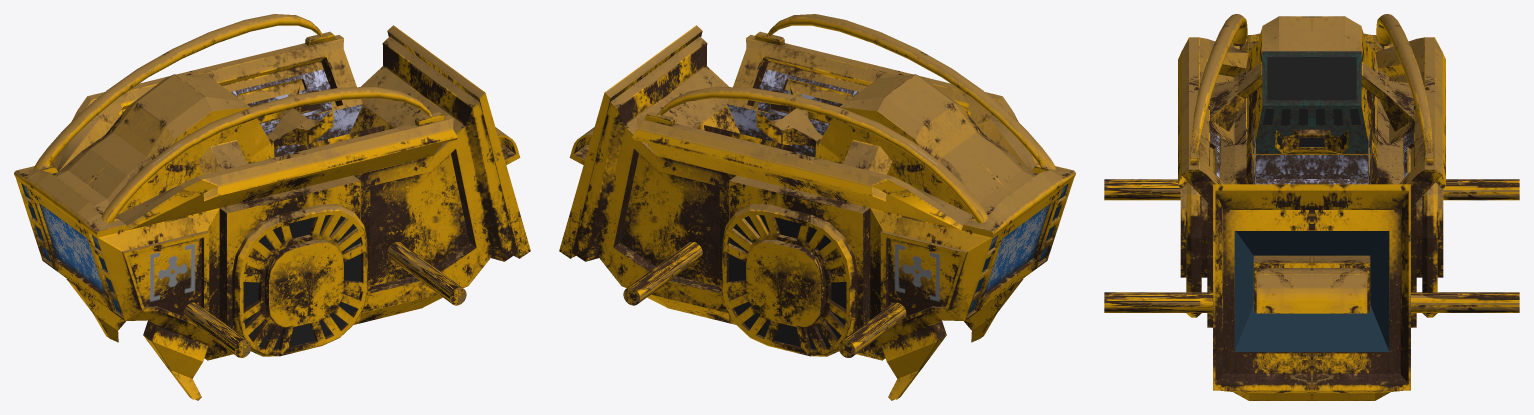
The picture shows the model from 3 angles, left to right: view 1: azimuth 30°, elevation 25°; view 2: azimuth 150°, elevation 25°; view 3: azimuth 270°, elevation 25°; orthographic projection. The views are drawn at different scales.
Visible parts, largest first — view 1: body; view 2: body; view 3: body.
Part boxes in pixels (bbox=[...]): body: bbox=[14, 14, 530, 400]; body: bbox=[559, 14, 1075, 400]; body: bbox=[1104, 14, 1519, 400].
Size of the model in its own units: 2.62 by 2 by 1.62.
5 materials, 5 textured.
